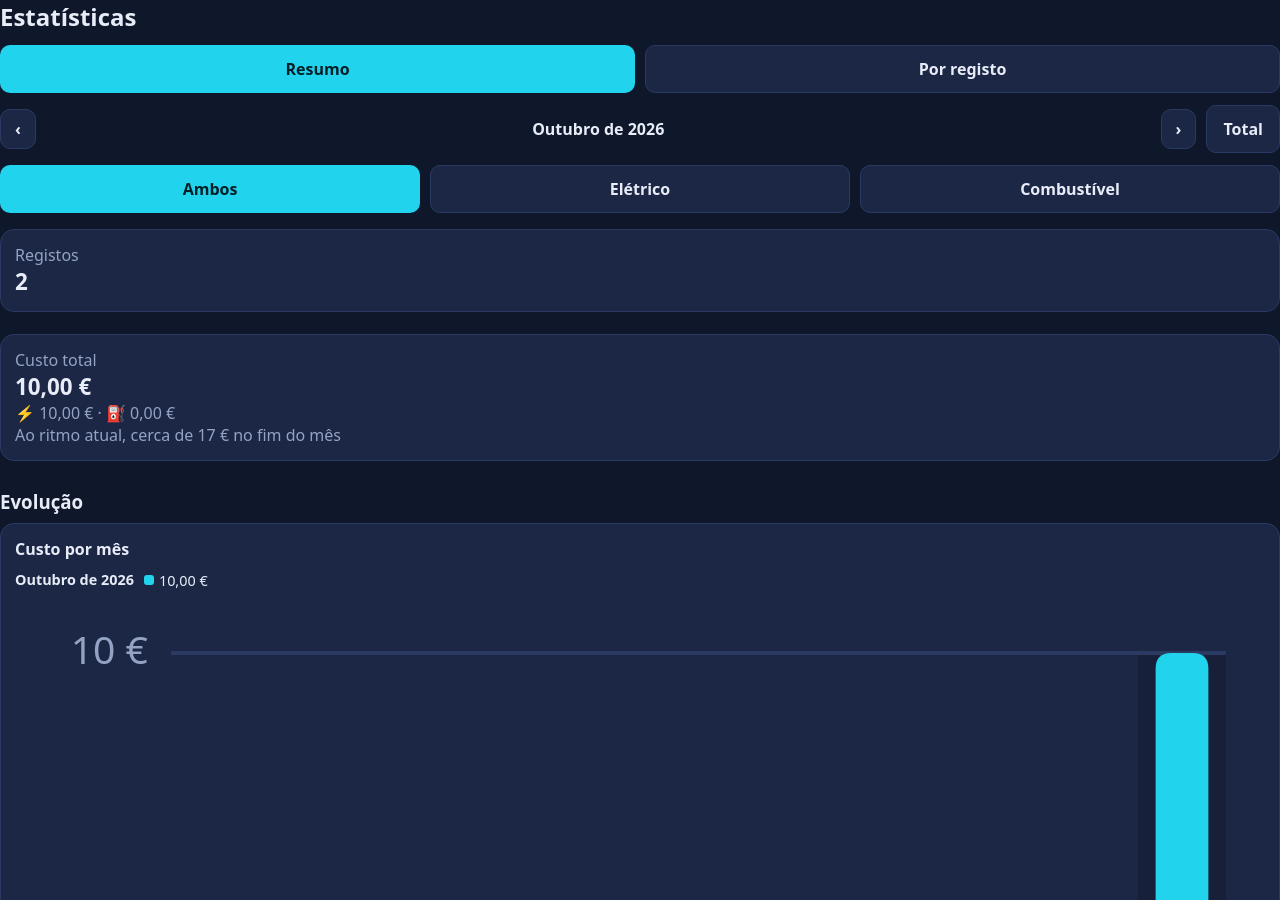
Test: StatsScreen › shows the price per kWh of each charge in the electric per-entry view
The width and height of the screenshot is (1280, 900).
Click the button "Por registo": (962, 69) [645, 45, 1279, 93]
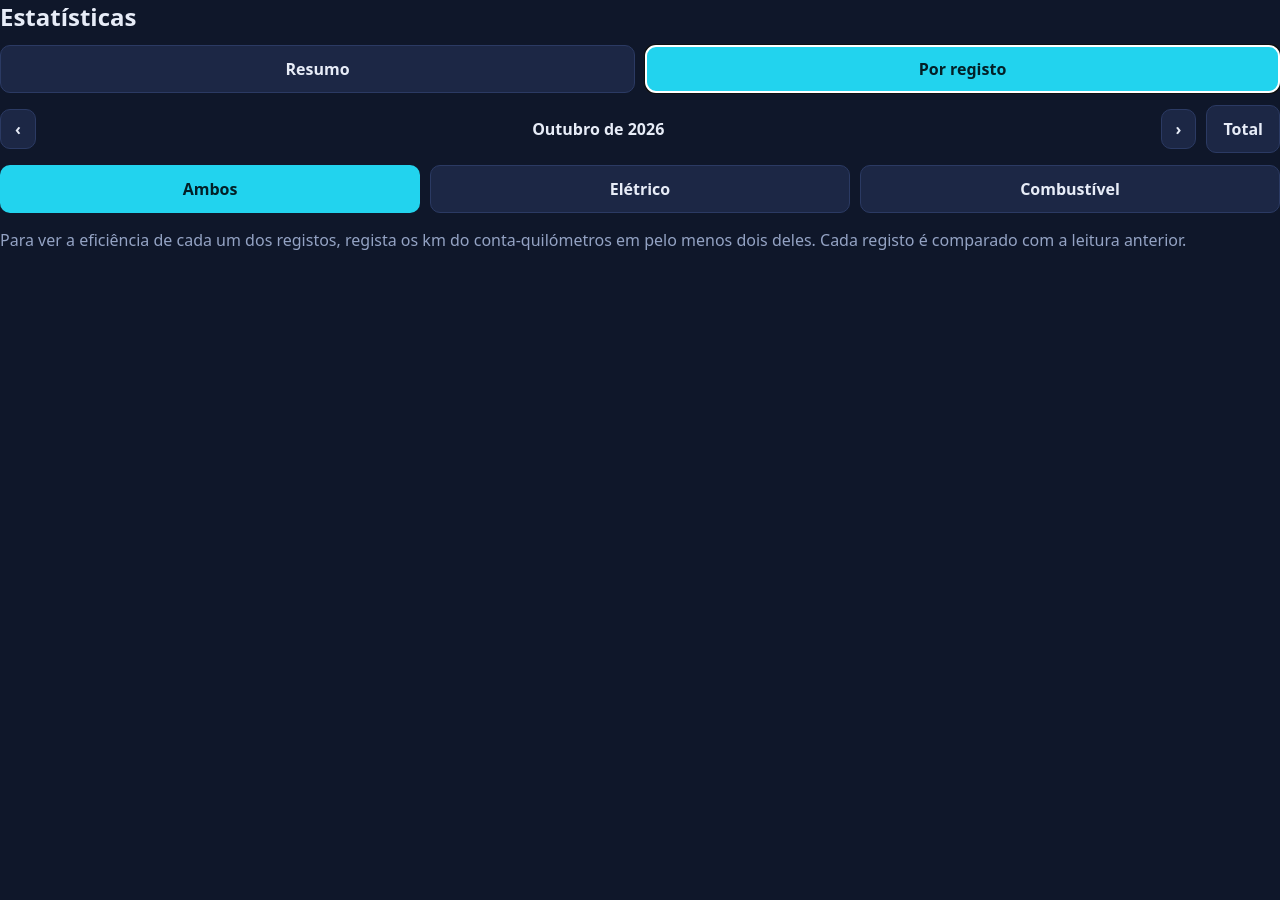
Click the button "Elétrico": (640, 189) [430, 165, 850, 213]
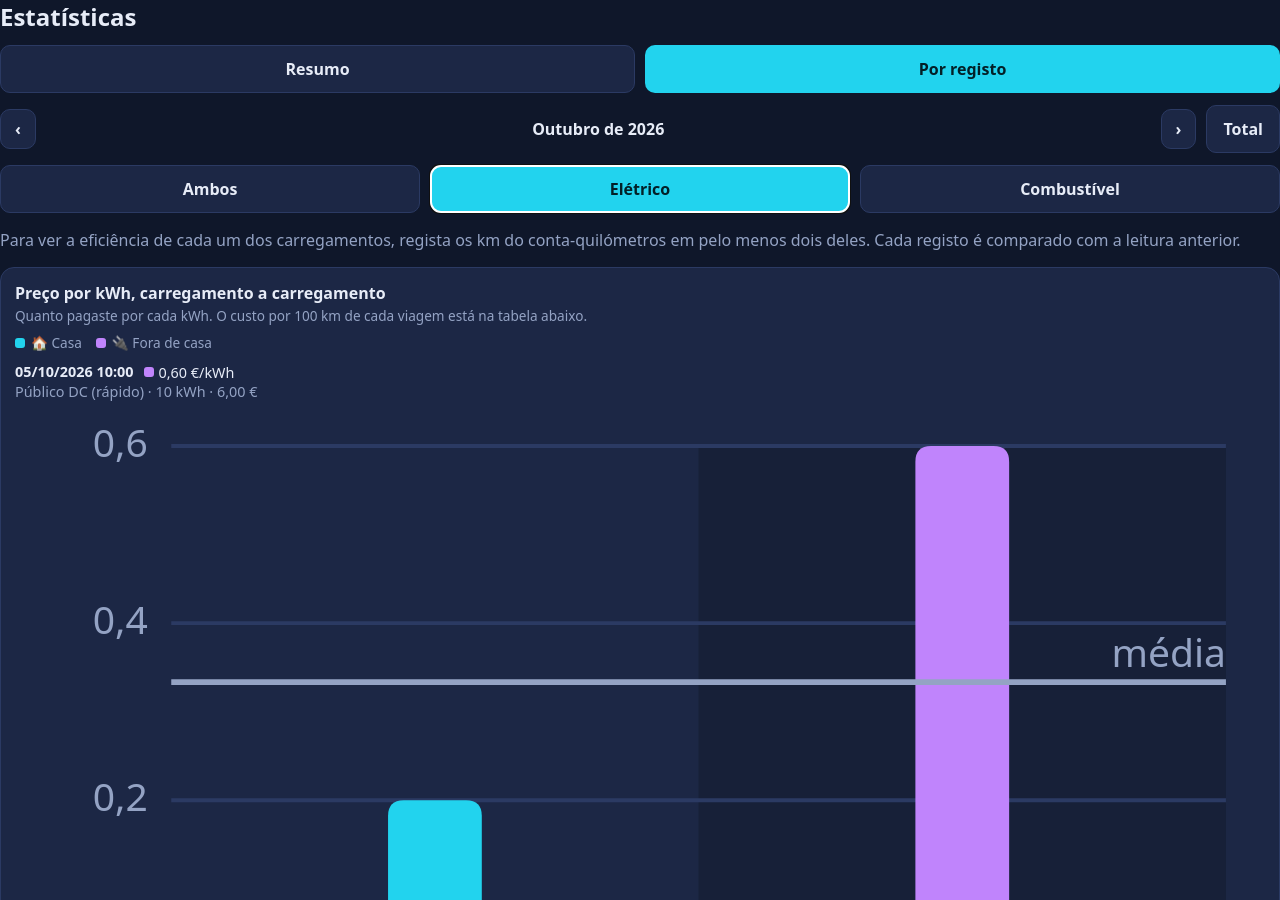
Expected: the text "regista os km do conta-quilómetros" is shown, [391, 229, 1241, 251]
Expected: the text "Preço por kWh, carregamento a carregamento" is shown, [15, 282, 386, 304]
